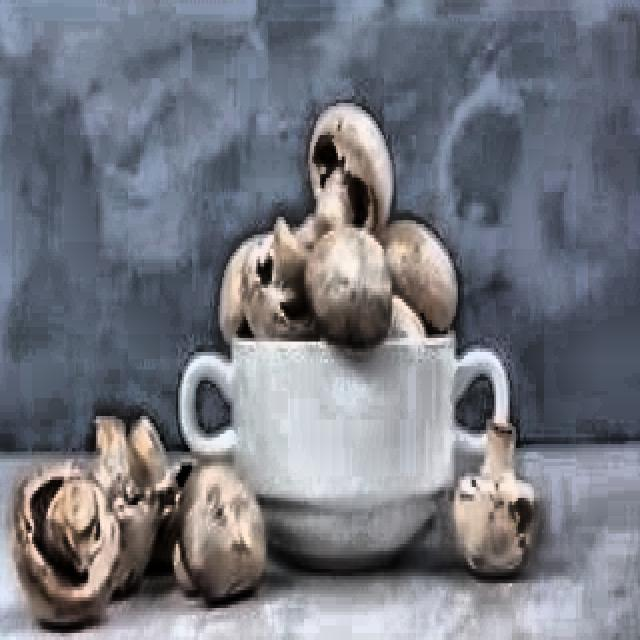Vegetable: (22, 69, 566, 618)
